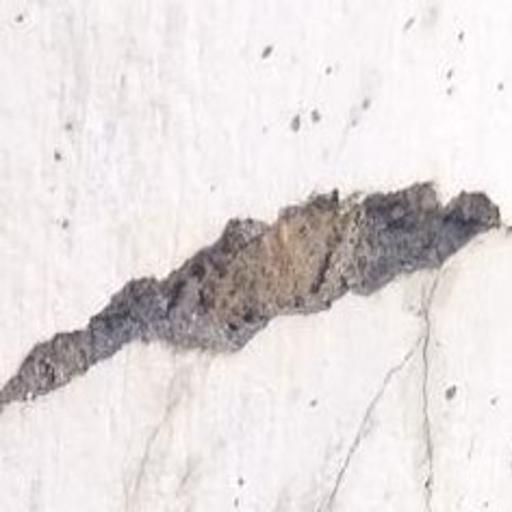spalling: (0, 164, 510, 434)
